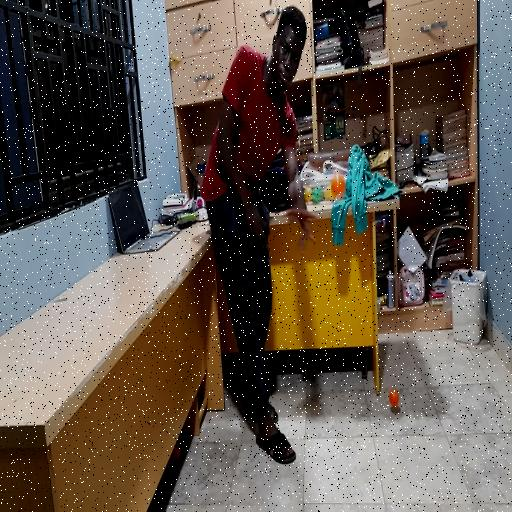plastic-ball: (330, 170, 347, 199)
